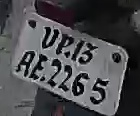1: (71, 38, 85, 59)
2: (56, 64, 74, 95), (45, 58, 62, 88)
3: (79, 41, 97, 65)
5: (89, 77, 109, 107)
6: (72, 72, 88, 98)
A: (16, 50, 34, 76)
E: (28, 54, 47, 82)
P: (53, 33, 73, 56)
U: (40, 27, 58, 51)
